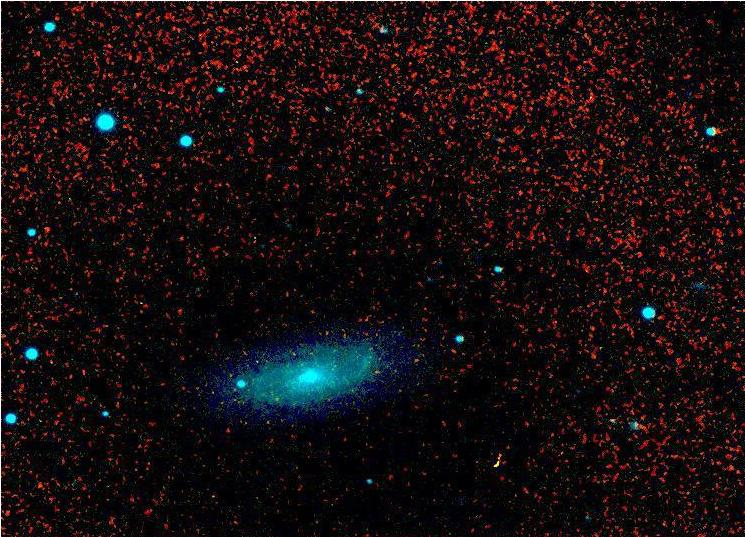star: (483, 448, 513, 478)
